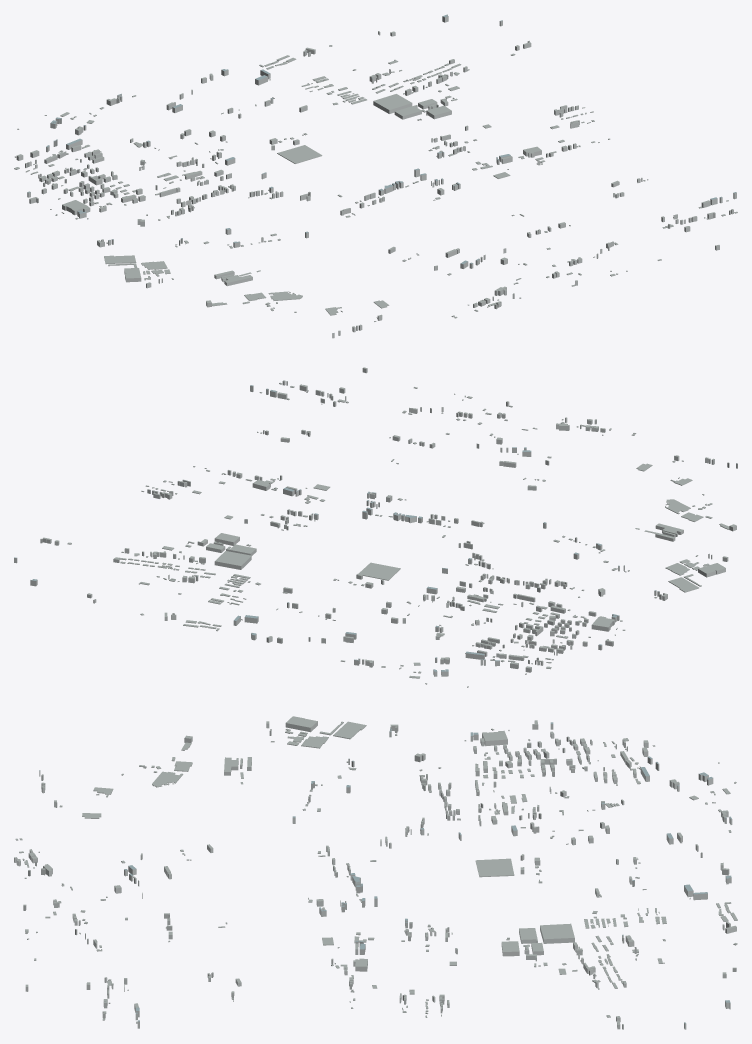
The model's file is far.glb.
3 views of the same model, one above another, from view 1: azimuth 30°, elevation 25°; view 2: azimuth 150°, elevation 25°; view 3: azimuth 270°, elevation 25° (orthographic). The views are drawn at different scales.
Size of the model in its own units: 2126 by 25.9 by 2104.
